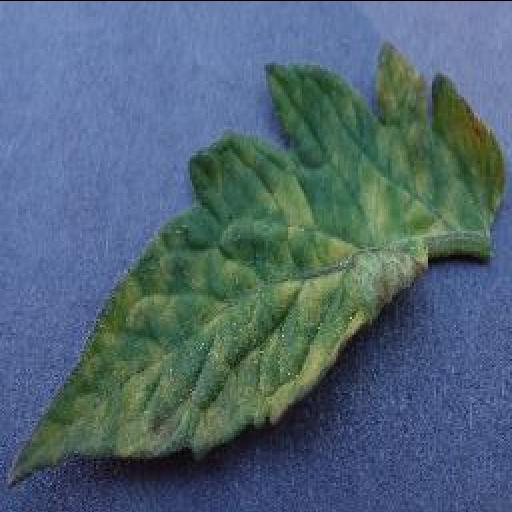disease_tomato: (2, 40, 512, 488)
